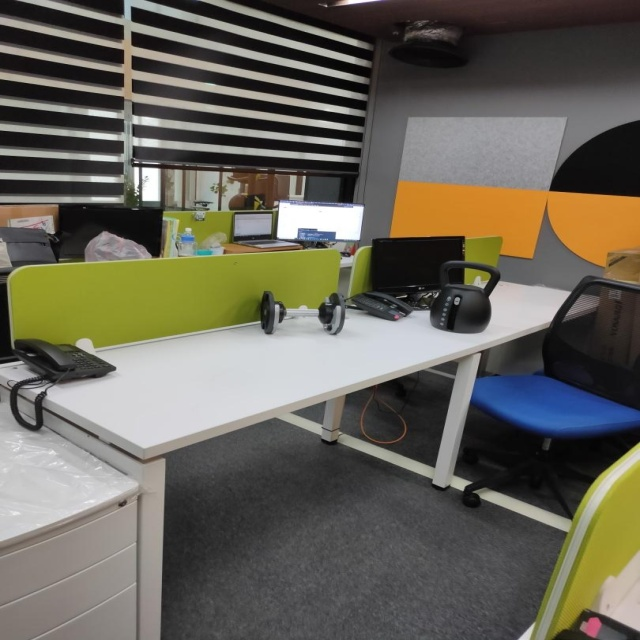02-4kg: (262, 292, 346, 336)
